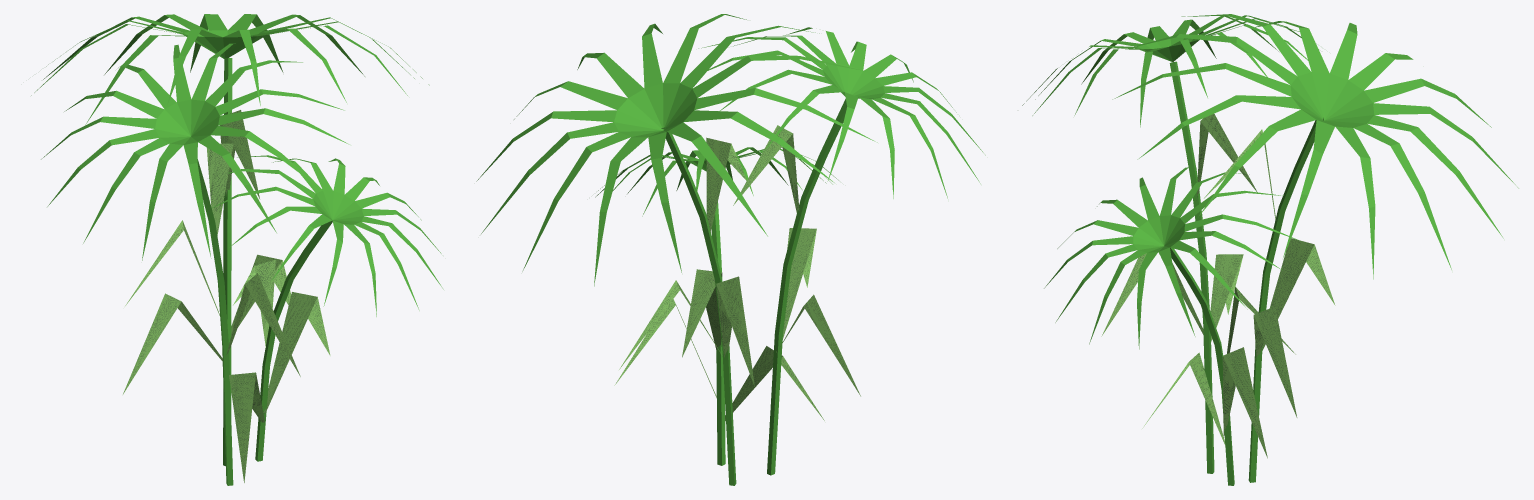
Rendered from grass_10.fbx.
3 views of the same model, side by side, from view 1: azimuth 30°, elevation 25°; view 2: azimuth 150°, elevation 25°; view 3: azimuth 270°, elevation 25° (orthographic).
Visible parts, largest first — view 1: grass_10; view 2: grass_10; view 3: grass_10.
Part boxes in pixels (bbox=[...]): grass_10: bbox=[31, 14, 443, 485]; grass_10: bbox=[476, 14, 985, 485]; grass_10: bbox=[1022, 14, 1518, 485].
Size of the model in its own units: 89.51 by 92.34 by 94.29.
